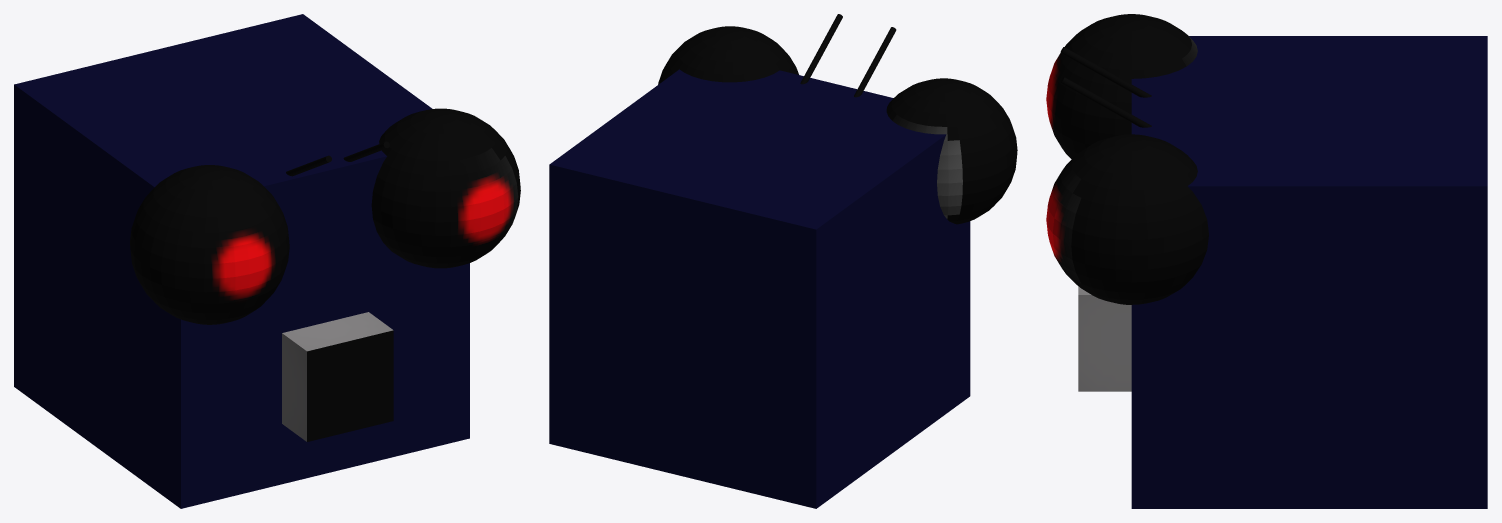
The model's file is Enemy.obj.
3 views of the same model, side by side, from view 1: azimuth 30°, elevation 25°; view 2: azimuth 150°, elevation 25°; view 3: azimuth 270°, elevation 25° (orthographic). The views are drawn at different scales.
Parts seen in each view (by area): view 1: Cube; view 2: Cube; view 3: Cube.
Boxes of the visible parts, x1,y1,x2,y2 form: Cube: (14, 14, 520, 508); Cube: (549, 14, 1017, 508); Cube: (1046, 14, 1487, 508).
Size of the model in its own units: 2.56 by 2.3 by 2.48.
Materials: 6 (6 with a texture image).
